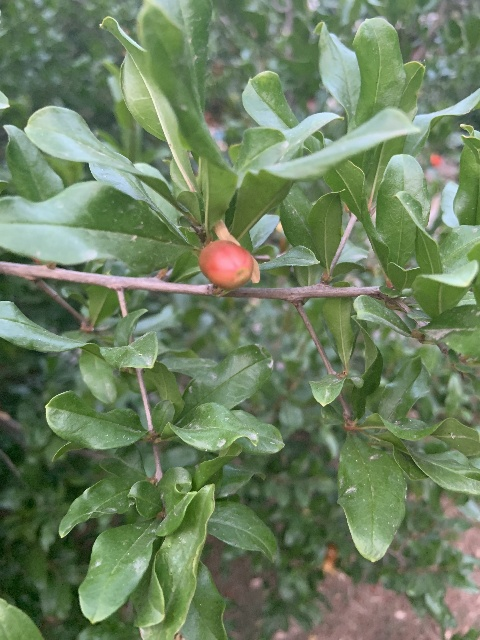bud: (199, 240, 256, 290)
early-fruit: (320, 544, 340, 576)
